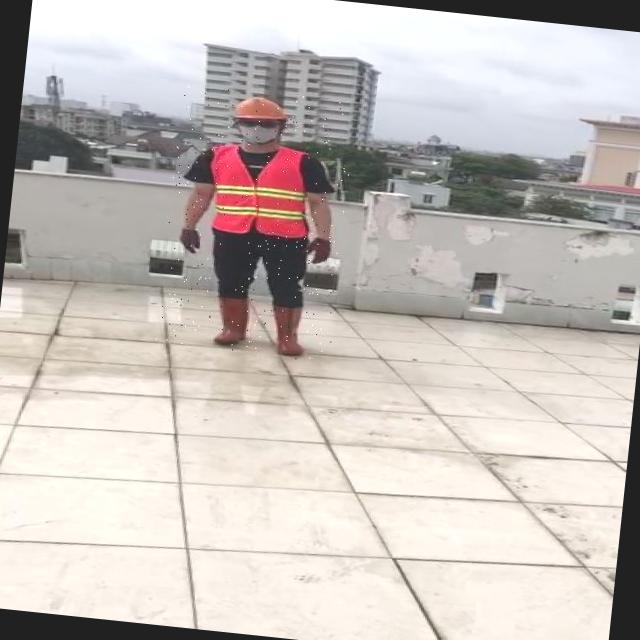boots: (264, 302, 314, 356), (208, 294, 252, 346)
gloves: (174, 225, 203, 256), (307, 236, 333, 264)
helmet: (229, 92, 285, 124)
vest: (205, 144, 312, 241)
